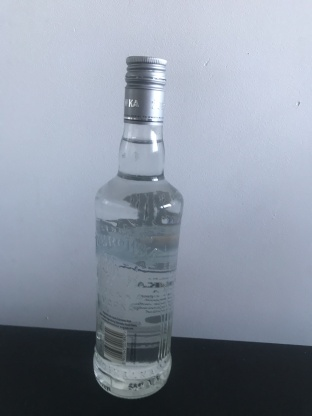nakretka: (122, 53, 168, 126)
